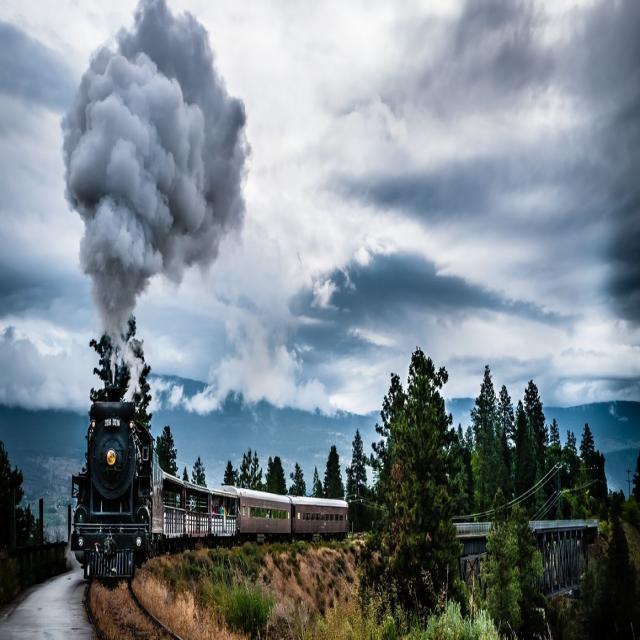Smoke: (64, 0, 250, 336)
